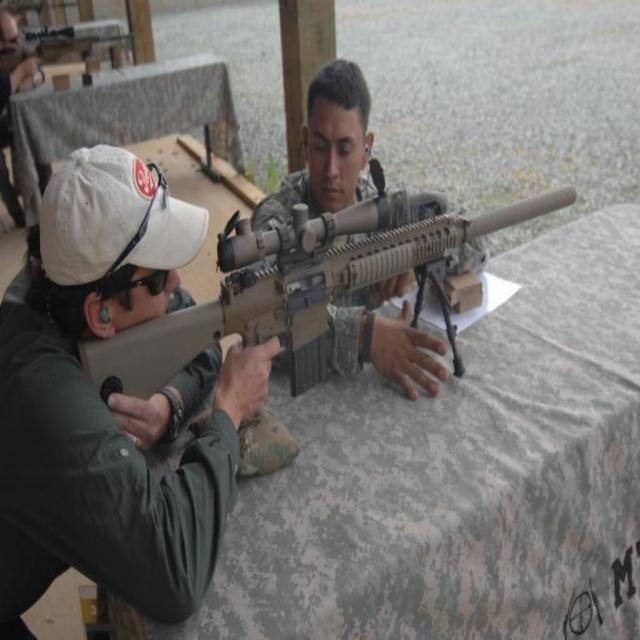weapon: (119, 150, 566, 454), (0, 22, 139, 72)
